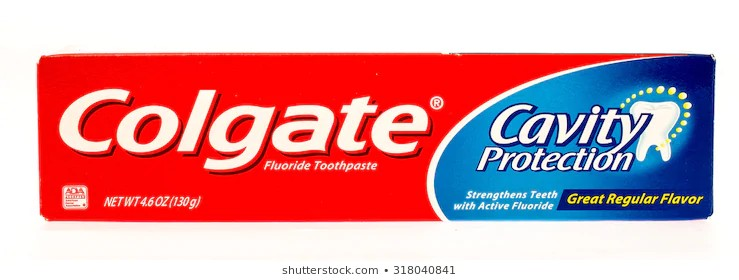colgate-small: (41, 47, 717, 225)
